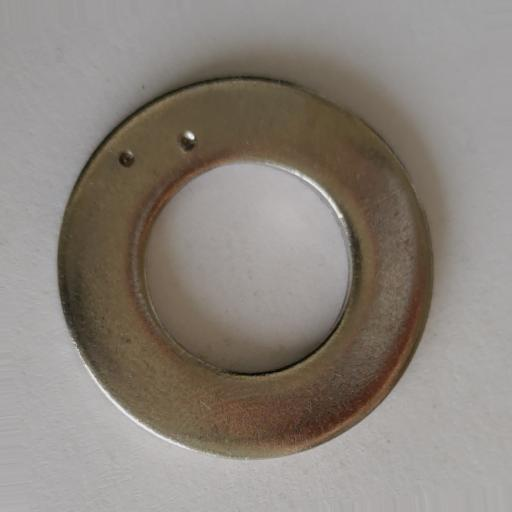circular_cavity: (179, 130, 197, 150), (119, 151, 134, 166)
